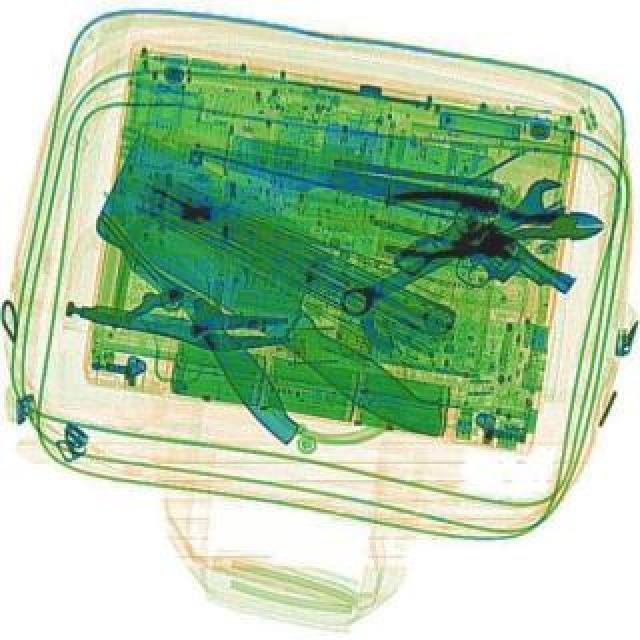gun: (388, 192, 578, 348)
knife: (70, 140, 494, 446), (88, 174, 306, 446), (172, 136, 500, 230)
scissors: (330, 168, 578, 324)
wrench: (384, 188, 606, 258)
